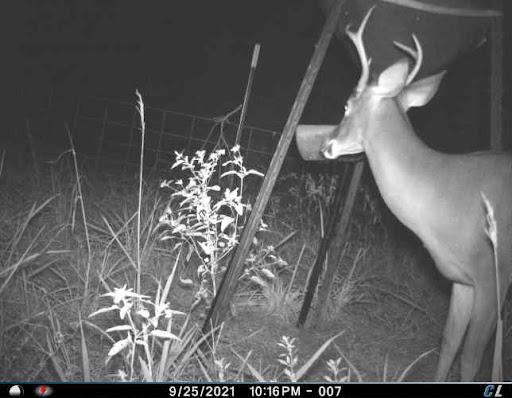Deer: (316, 0, 512, 383)
